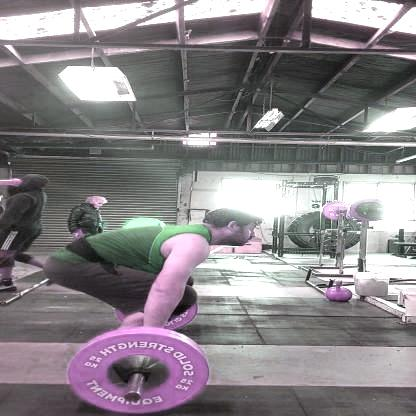Barbell: (119, 387, 146, 406)
